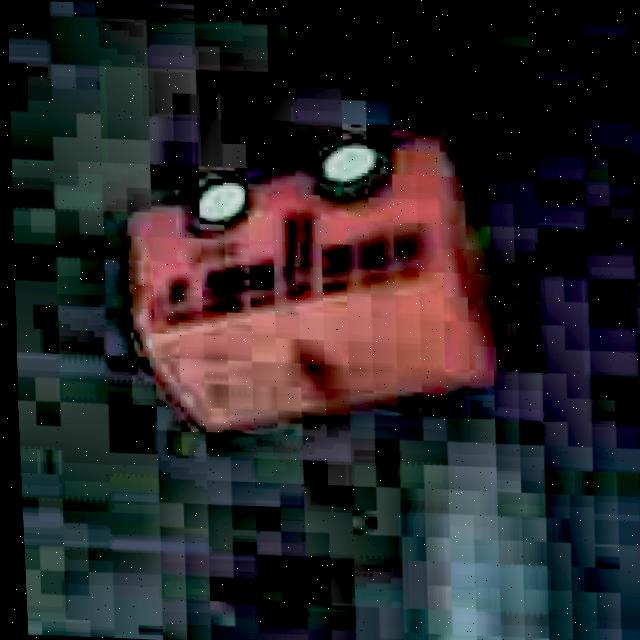bus: (113, 115, 504, 448)
